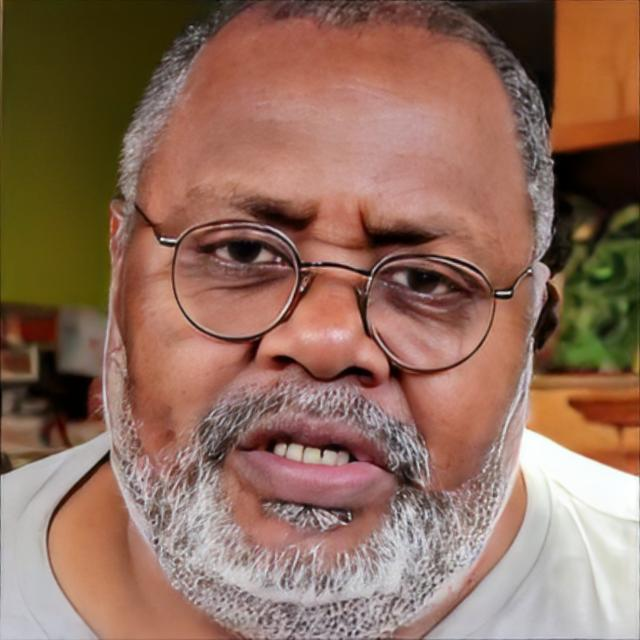disgust: (114, 0, 534, 605)
